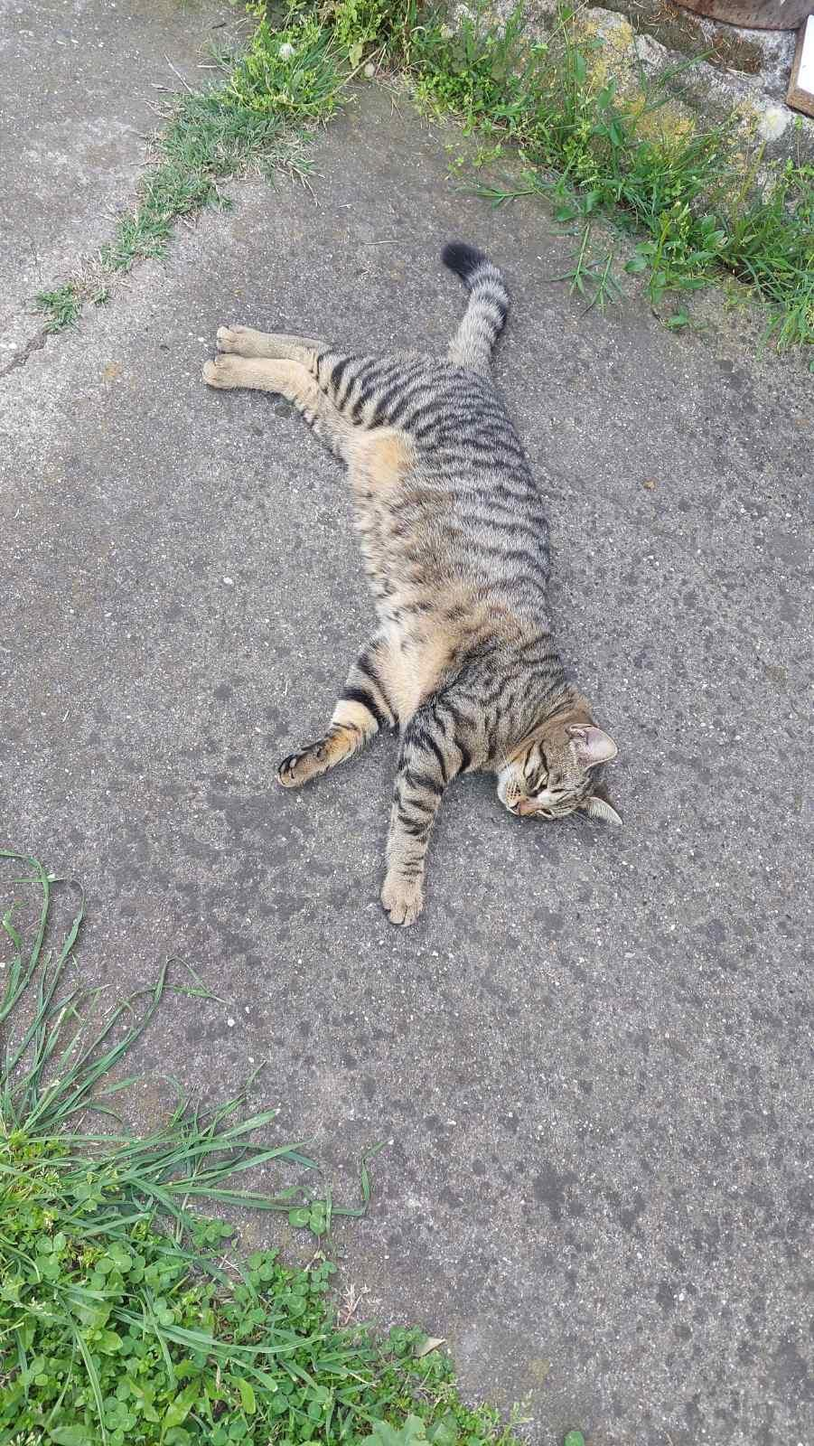macka: (202, 243, 626, 928)
